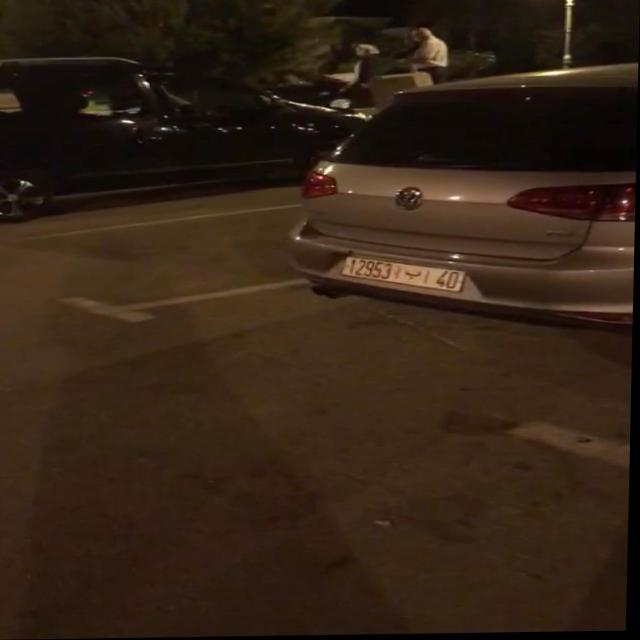License-Plate: (347, 257, 465, 293)
